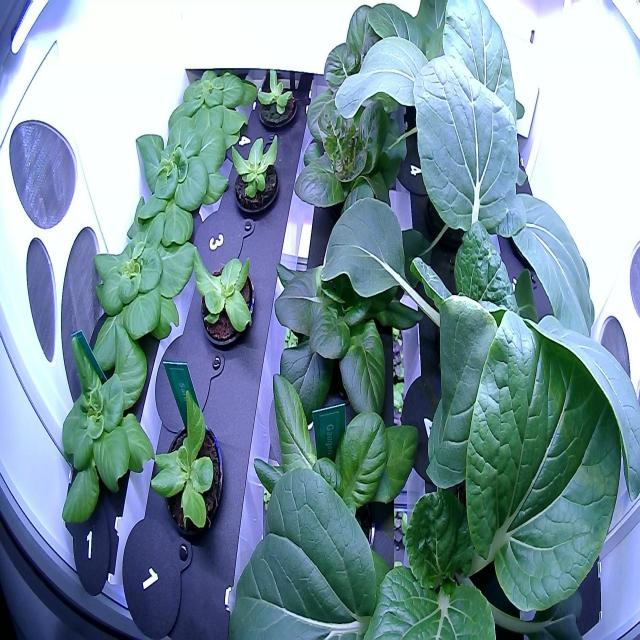young: (238, 364, 429, 636), (268, 200, 436, 423), (50, 316, 160, 540), (78, 192, 203, 380), (286, 57, 419, 229), (143, 380, 240, 562), (125, 101, 231, 251), (293, 0, 417, 123), (156, 51, 260, 166), (186, 238, 262, 362), (225, 125, 288, 222), (252, 61, 306, 134)
